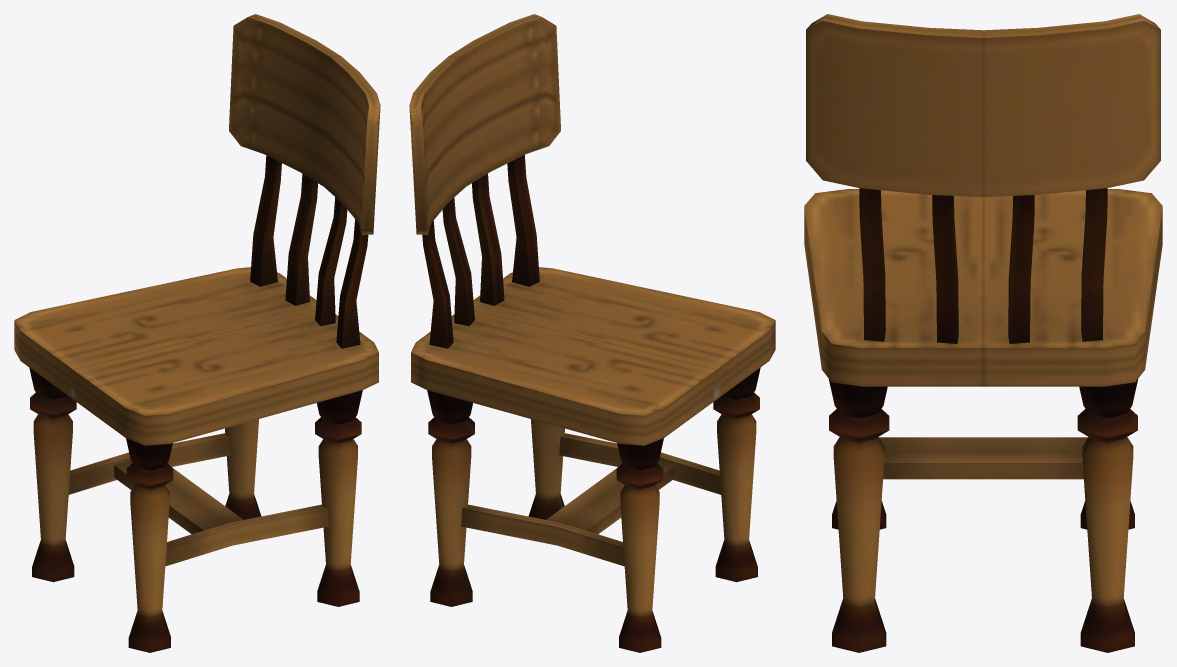
Rendered from Chair_02.gltf.
3 views of the same model, side by side, from view 1: azimuth 30°, elevation 25°; view 2: azimuth 150°, elevation 25°; view 3: azimuth 270°, elevation 25° (orthographic). The views are drawn at different scales.
Visible parts, largest first — view 1: Chair_02; view 2: Chair_02; view 3: Chair_02.
Part boxes in pixels (x1,y1,x2,y2): Chair_02: (14, 14, 380, 652); Chair_02: (409, 14, 775, 652); Chair_02: (804, 14, 1162, 652).
Bounding box in the file's own units: 19.43 × 34.3 × 17.49.
1 material, 1 textured.
